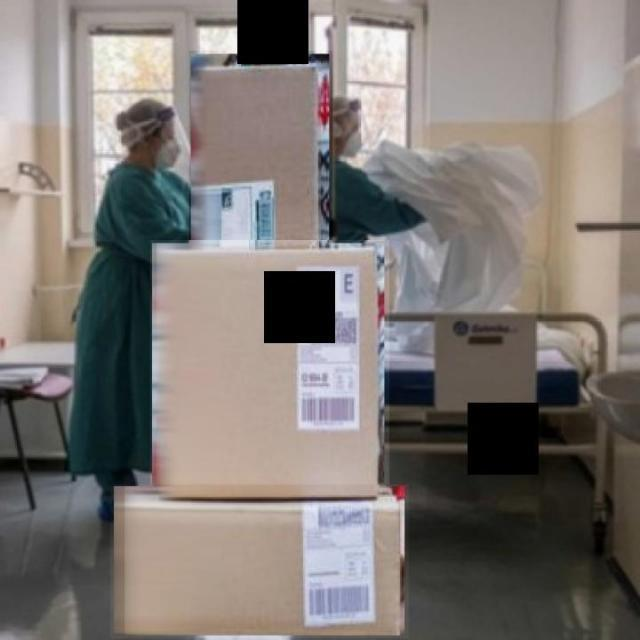box: (150, 240, 390, 510), (110, 484, 410, 638), (190, 51, 332, 252)
